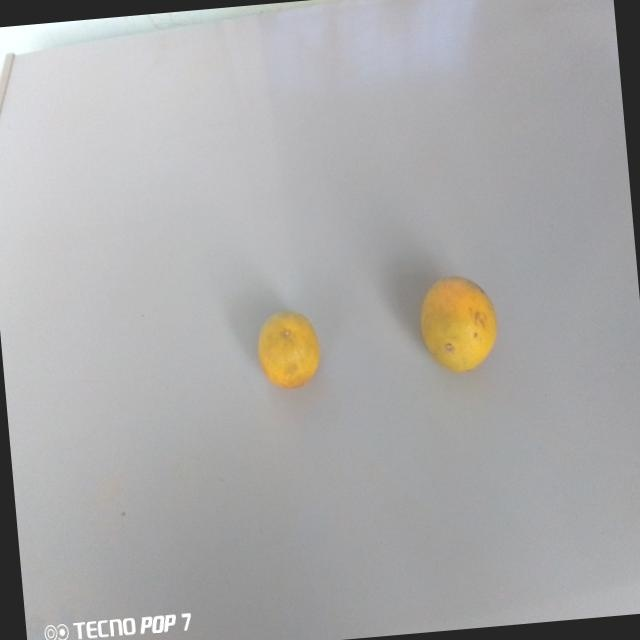agrume: (405, 262, 507, 382), (247, 302, 333, 409)
